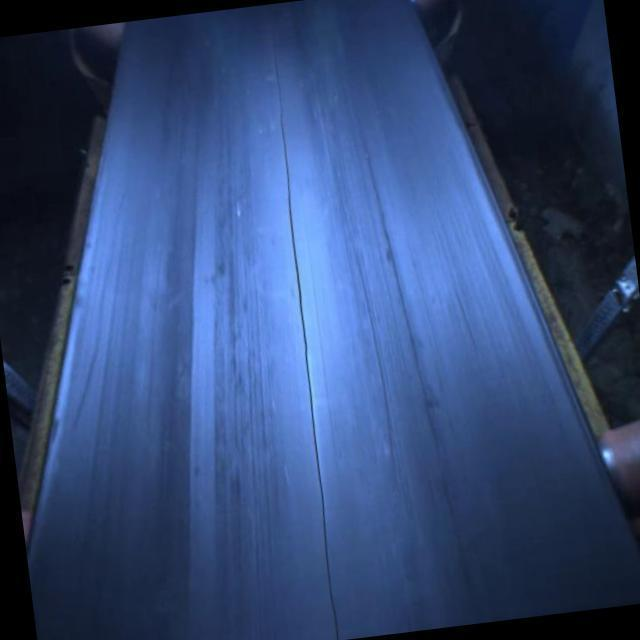Tear: (268, 39, 346, 640)
